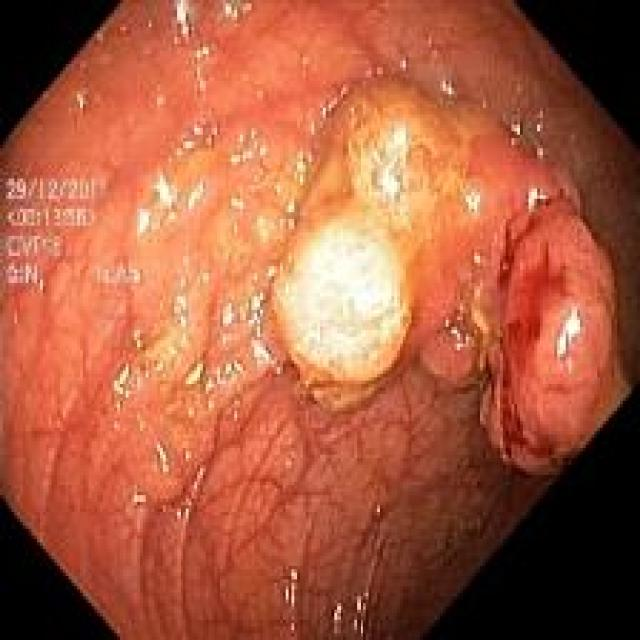Polyps: (272, 77, 629, 475)
